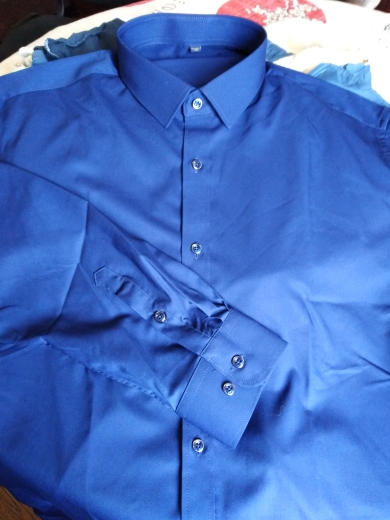shirts: (14, 22, 390, 499)
